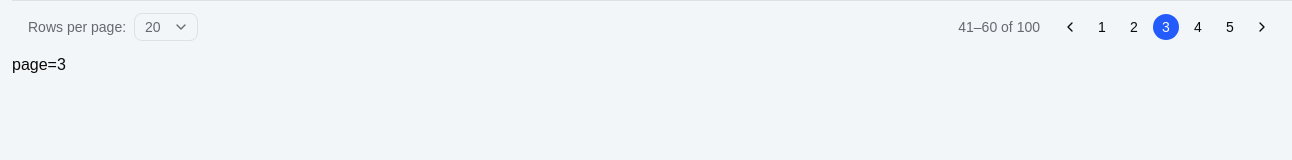
Test: PaginationControls › goes to previous page on Previous click
What coordinates should you click on to do the following:
click the button named "Previous page"
I would click on:
 (1070, 27)
Its box is x1=1056 y1=13 x2=1084 y2=41.
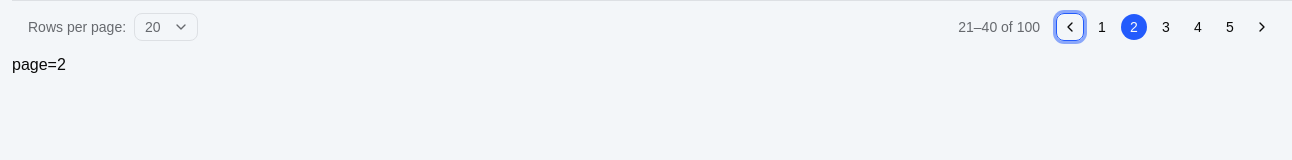
Expected: the text with test id "params" reads "page=2", x1=12 y1=56 x2=66 y2=73
